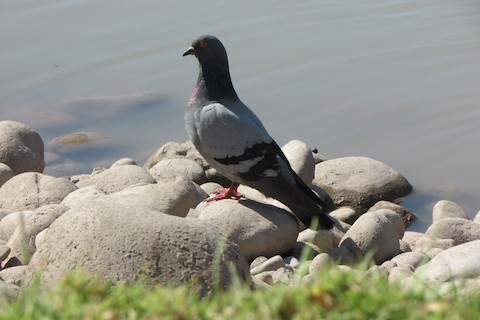pigeon: (176, 30, 339, 235)
